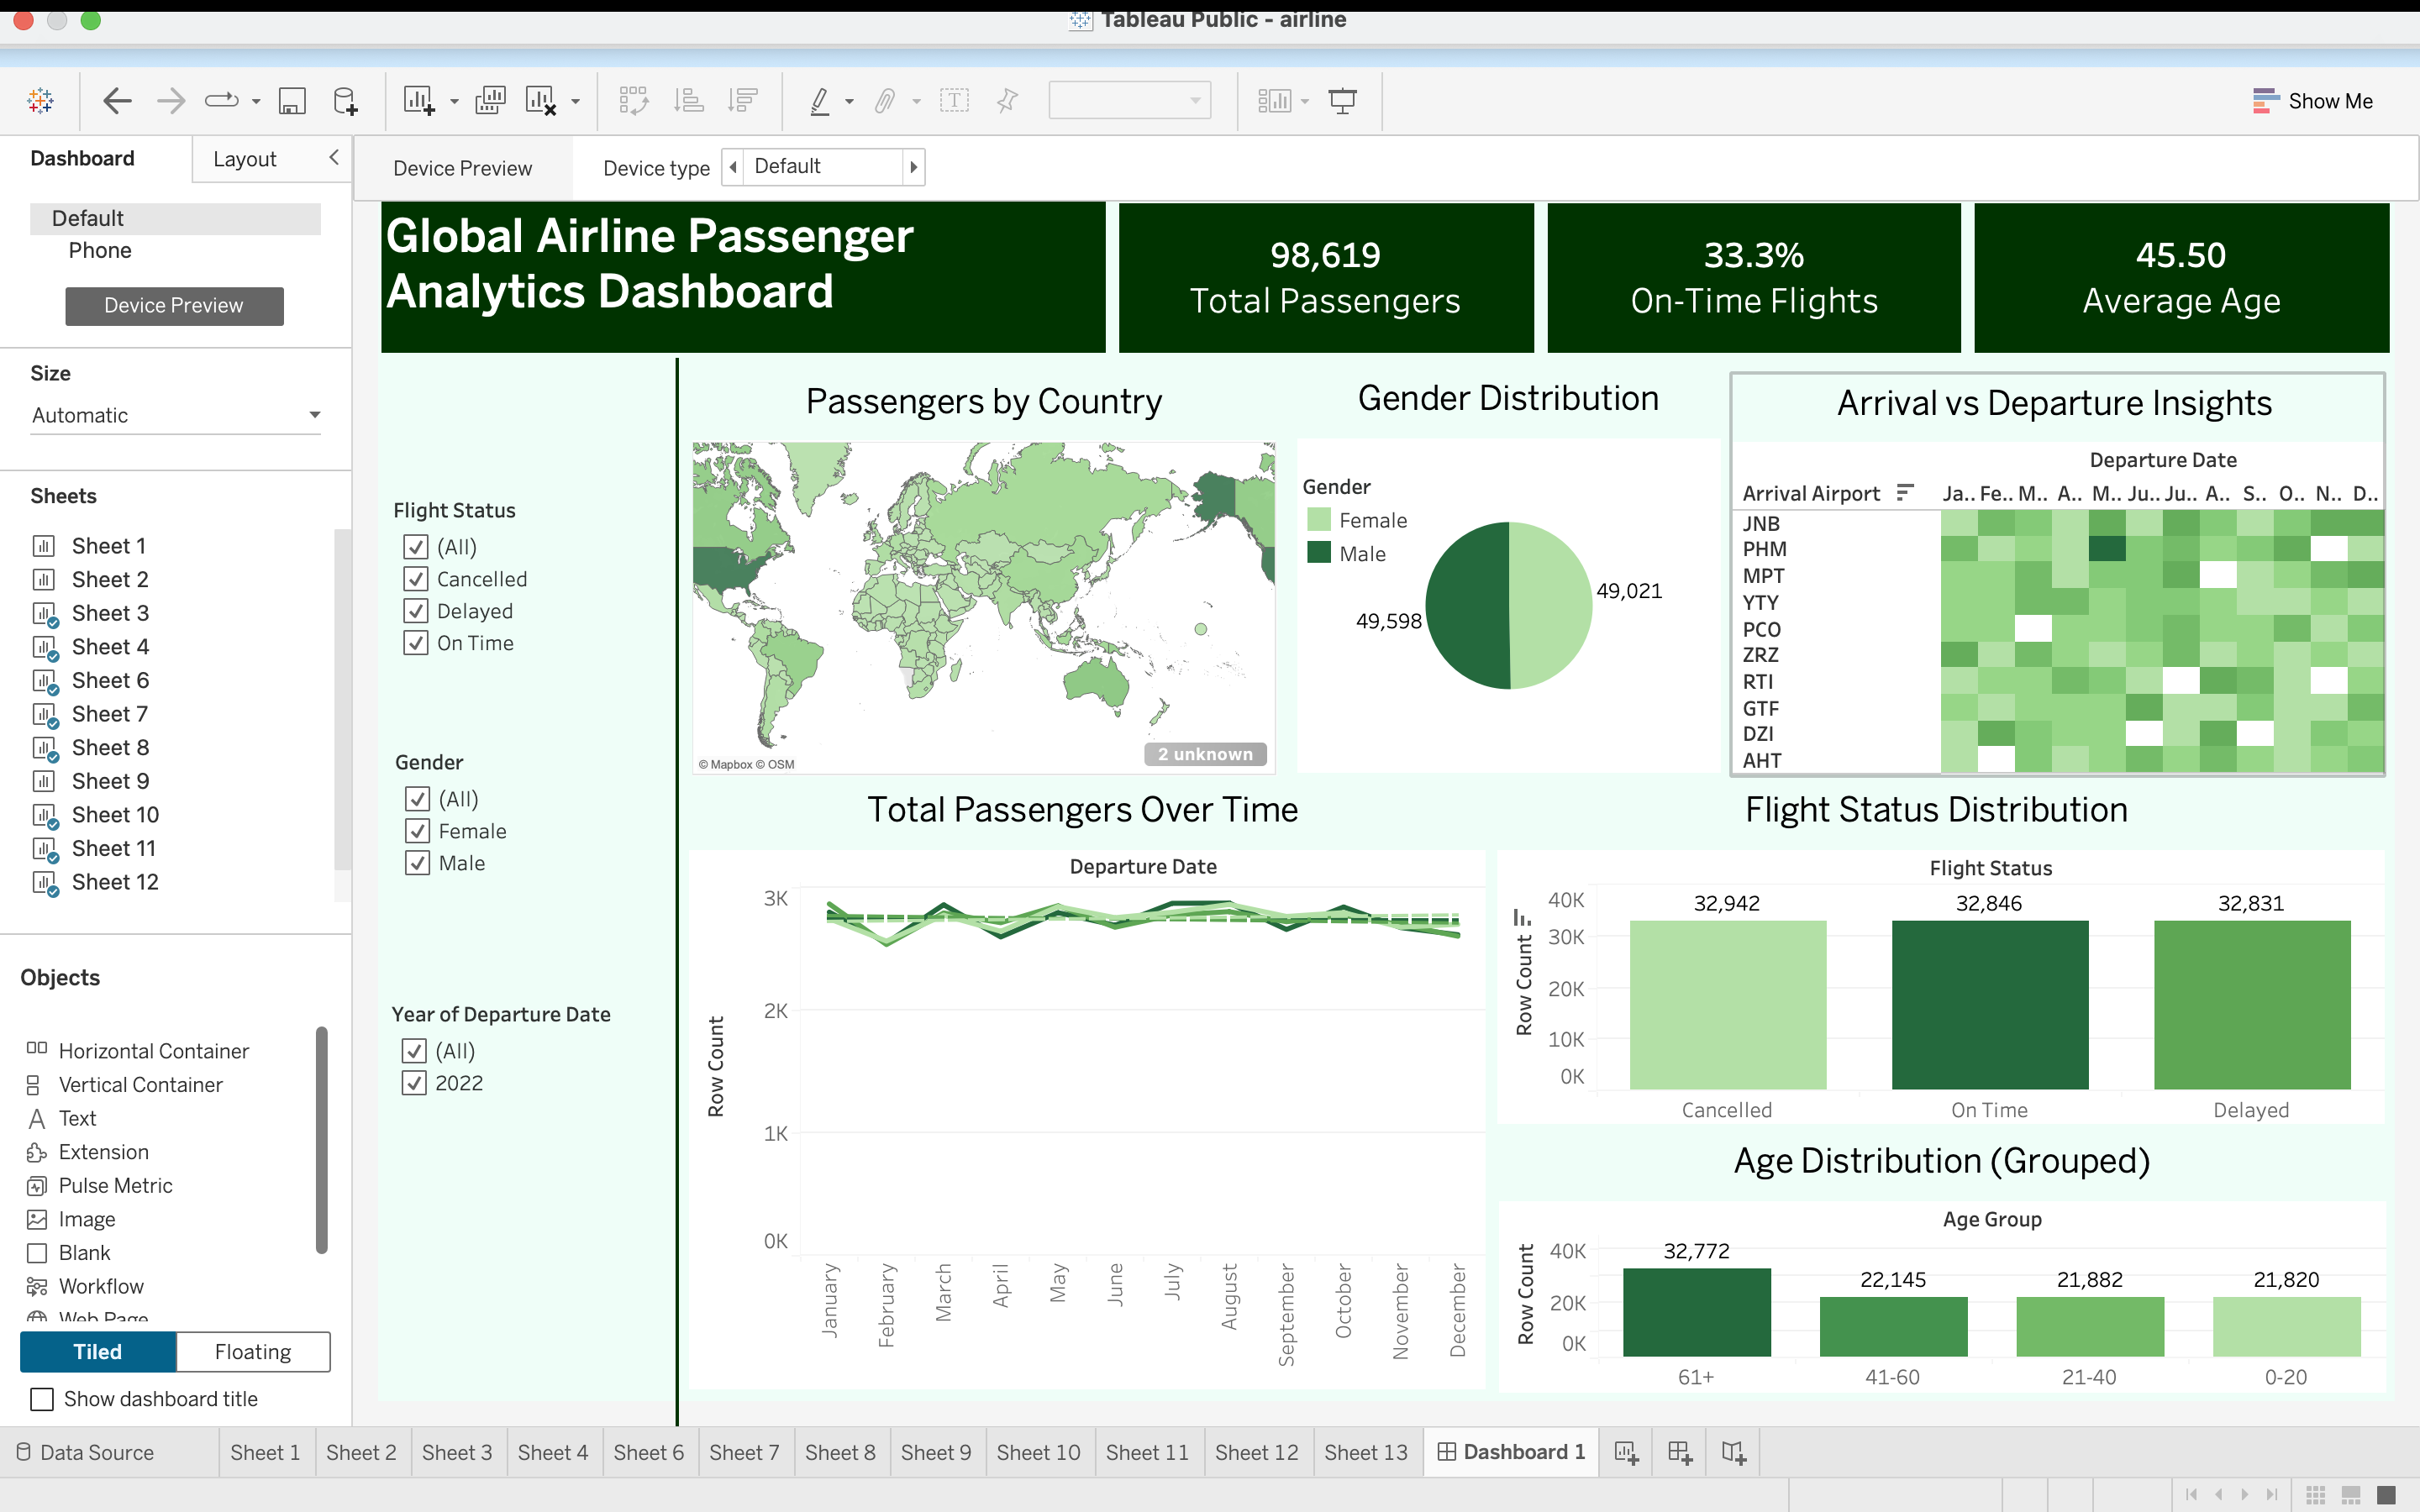

What the dashboard file says about the page in this screenshot:
{"tool":"tableau","page":{"name":"Dashboard 1","canvas":[1000,1000],"units":"permille","ordinal":0},"visuals":[{"type":"worksheet","title":"Sheet 3","mark":"Pie","box":[455.4,140.6,210,335.9]},{"type":"worksheet","title":"Sheet 8","mark":"Automatic","box":[155.6,143.2,290,335.9]},{"type":"worksheet","title":"Sheet 10","mark":"Square","rows":["Arrival Airport"],"cols":["Departure Date"],"box":[671.9,144.5,323.9,333.3]},{"type":"legend","title":"Sheet 3","param":"[federated.1f1et9s0fvxy401ep0qud0o2nd33].[none:Gender:nk]","box":[458.1,225.3,70.8,75.5]},{"type":"filter","title":"Sheet 6","param":"[federated.1f1et9s0fvxy401ep0qud0o2nd33].[none:Flight Status:nk]","box":[7.8,244.8,130.1,165.4]},{"type":"filter","title":"Sheet 3","param":"[federated.1f1et9s0fvxy401ep0qud0o2nd33].[none:Gender:nk]","box":[8.5,455.7,130.1,134.1]},{"type":"worksheet","title":"Sheet 7","mark":"Automatic","rows":["Calculation_0101188219236354"],"cols":["Flight Status"],"box":[555.2,483.1,439.9,286.5]},{"type":"worksheet","title":"Sheet 6","mark":"Automatic","rows":["Calculation_0101188219236354"],"cols":["Departure Date"],"box":[154.2,483.2,395,507]},{"type":"filter","title":"Sheet 10","param":"[federated.1f1et9s0fvxy401ep0qud0o2nd33].[yr:Departure Date:ok]","box":[7.1,665.4,130.1,101.6]},{"type":"worksheet","title":"Sheet 4","mark":"Automatic","rows":["Calculation_0101188219236354"],"cols":["Calculation_0101188232609795"],"box":[555.9,776,439.9,217.5]}]}

Visuals, with their boxes on the dashboard's canvas, which has no fixed pixel size, in thousandths of its width and height (x1, y1, x2, y2). These are canvas units, not pixel positions in the 2420x1512 screenshot, which may show the page scaled, cropped or inside an application window:
"Sheet 3" worksheet (Pie marks): (455, 141, 665, 476)
"Sheet 8" worksheet: (156, 143, 446, 479)
"Sheet 10" worksheet (Square marks): (672, 144, 996, 478)
"Sheet 3" legend: (458, 225, 529, 301)
"Sheet 6" filter: (8, 245, 138, 410)
"Sheet 3" filter: (8, 456, 139, 590)
"Sheet 7" worksheet: (555, 483, 995, 770)
"Sheet 6" worksheet: (154, 483, 549, 990)
"Sheet 10" filter: (7, 665, 137, 767)
"Sheet 4" worksheet: (556, 776, 996, 994)
